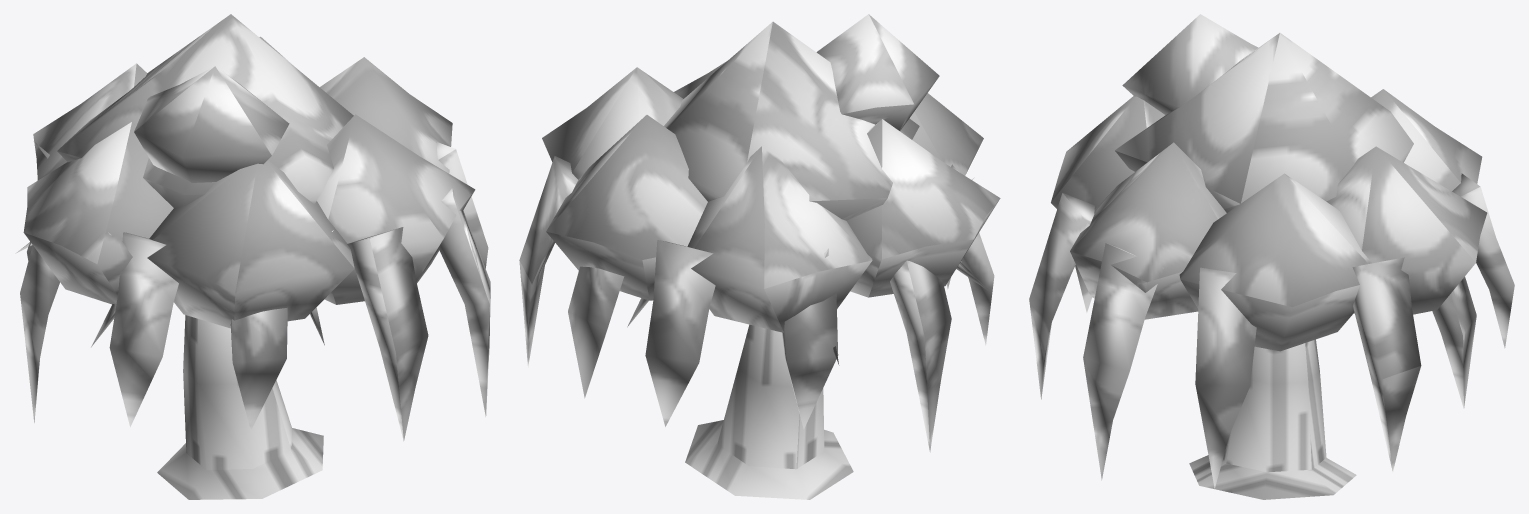
File: tree_willow_2.obj
The picture shows the model from 3 angles, left to right: view 1: azimuth 30°, elevation 25°; view 2: azimuth 150°, elevation 25°; view 3: azimuth 270°, elevation 25°; orthographic projection. The views are drawn at different scales.
Visible parts, largest first — view 1: source_component_029, source_component_032, source_component_000, source_component_028, source_component_030, source_component_033, source_component_040, source_component_038, source_component_031, source_component_041, source_component_039, source_component_027 (+2 smaller); view 2: source_component_032, source_component_027, source_component_026, source_component_000, source_component_028, source_component_033, source_component_035, source_component_031, source_component_037, source_component_036, source_component_043, source_component_034 (+2 smaller); view 3: source_component_032, source_component_031, source_component_000, source_component_026, source_component_030, source_component_043, source_component_042, source_component_041, source_component_033, source_component_029, source_component_040, source_component_027 (+2 smaller).
Part boxes in pixels (<box>): source_component_029: <box>147,160,354,328</box>; source_component_032: <box>57,14,353,207</box>; source_component_000: <box>157,315,323,499</box>; source_component_028: <box>23,122,173,304</box>; source_component_030: <box>317,114,475,304</box>; source_component_033: <box>134,66,289,182</box>; source_component_040: <box>347,227,428,441</box>; source_component_038: <box>109,232,178,427</box>; source_component_031: <box>319,57,452,173</box>; source_component_041: <box>438,187,490,416</box>; source_component_039: <box>230,307,287,430</box>; source_component_027: <box>33,63,147,180</box>; source_component_032: <box>664,21,919,220</box>; source_component_027: <box>687,146,872,332</box>; source_component_026: <box>546,115,707,300</box>; source_component_000: <box>685,324,853,499</box>; source_component_028: <box>846,119,1000,297</box>; source_component_033: <box>816,14,939,130</box>; source_component_035: <box>645,240,715,426</box>; source_component_031: <box>542,67,683,179</box>; source_component_037: <box>890,260,951,452</box>; source_component_036: <box>782,293,838,429</box>; source_component_043: <box>519,156,577,367</box>; source_component_034: <box>568,266,624,398</box>; source_component_032: <box>1115,33,1413,212</box>; source_component_031: <box>1179,173,1371,351</box>; source_component_000: <box>1189,339,1356,499</box>; source_component_026: <box>1326,146,1487,314</box>; source_component_030: <box>1070,142,1226,319</box>; source_component_043: <box>1352,257,1421,471</box>; source_component_042: <box>1195,267,1256,488</box>; source_component_041: <box>1083,243,1163,480</box>; source_component_033: <box>1122,14,1258,114</box>; source_component_029: <box>1051,96,1165,209</box>; source_component_040: <box>1029,193,1094,399</box>; source_component_027: <box>1371,89,1482,191</box>.
Bounding box in the file's own units: 0.9639 × 0.9736 × 0.955.
